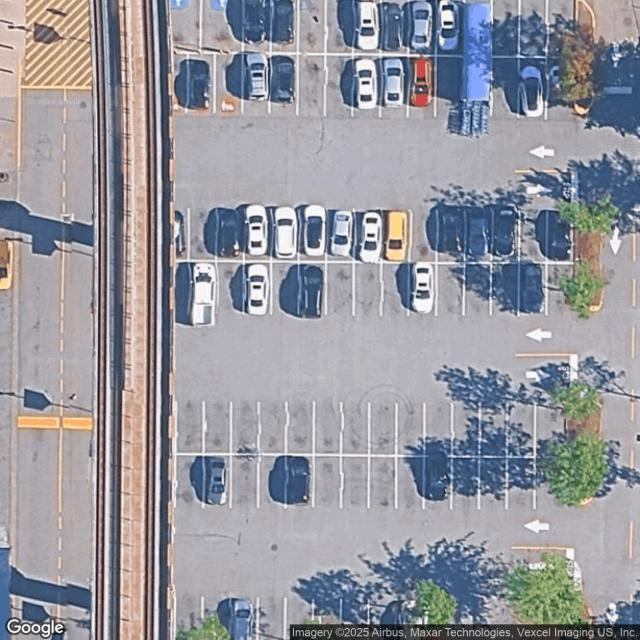car: (190, 261, 218, 331), (517, 64, 545, 119), (546, 209, 574, 262), (300, 264, 326, 320), (423, 450, 451, 501), (185, 57, 211, 111), (214, 209, 242, 259), (244, 51, 270, 104), (353, 56, 378, 110), (410, 262, 435, 316), (274, 203, 297, 261), (520, 262, 544, 316), (246, 263, 270, 316), (401, 596, 429, 640), (287, 454, 311, 504), (242, 0, 268, 46), (207, 454, 230, 506), (359, 213, 382, 264), (230, 595, 256, 640), (274, 54, 296, 107), (245, 204, 267, 257), (303, 203, 325, 256), (355, 0, 378, 50), (437, 1, 460, 49), (441, 209, 464, 257), (385, 210, 407, 260), (494, 207, 516, 257), (383, 57, 404, 107), (412, 56, 432, 108), (273, 0, 295, 45), (411, 3, 432, 50), (468, 213, 489, 258), (334, 209, 352, 261), (384, 4, 404, 50), (552, 62, 571, 103), (172, 211, 187, 257)
lot_boundary: (167, 0, 576, 639)
objects: (462, 0, 492, 138)
stall: (200, 0, 242, 53), (380, 56, 408, 119), (168, 0, 201, 53), (519, 57, 547, 119), (436, 56, 463, 119), (270, 53, 297, 116), (215, 54, 242, 117), (549, 57, 576, 120), (493, 57, 520, 120), (298, 54, 325, 116), (325, 55, 352, 117), (354, 55, 381, 117), (408, 56, 435, 118), (243, 55, 270, 117), (187, 55, 214, 117), (395, 598, 432, 640), (520, 0, 547, 56), (548, 0, 575, 56), (270, 0, 298, 54), (326, 0, 354, 54), (298, 0, 326, 53), (408, 0, 436, 53), (493, 0, 519, 57), (351, 52, 378, 106), (437, 0, 463, 56), (381, 0, 408, 53), (244, 0, 271, 53), (353, 0, 380, 53), (519, 212, 547, 263), (354, 262, 382, 313), (326, 263, 354, 314), (175, 455, 203, 506), (258, 455, 286, 506), (203, 455, 231, 506), (341, 403, 369, 454), (313, 403, 341, 454), (424, 457, 452, 508), (425, 404, 453, 455), (397, 457, 425, 508), (396, 404, 424, 455), (479, 405, 507, 456), (452, 405, 480, 456), (437, 212, 465, 262), (465, 212, 493, 262), (491, 211, 519, 261), (216, 210, 244, 260), (271, 211, 299, 261), (299, 210, 327, 260), (271, 262, 299, 312), (463, 264, 491, 314), (436, 264, 464, 314), (409, 264, 437, 314), (176, 403, 204, 453), (313, 456, 341, 506), (285, 456, 313, 506), (508, 406, 536, 456), (507, 459, 535, 509), (479, 458, 507, 508), (537, 459, 565, 509), (189, 210, 216, 261), (327, 211, 354, 262), (354, 210, 381, 261), (216, 262, 243, 313), (189, 261, 216, 312), (519, 264, 546, 315), (204, 402, 231, 453), (547, 264, 574, 315), (258, 402, 285, 453), (341, 456, 368, 507), (369, 456, 396, 507), (452, 457, 479, 508), (382, 212, 409, 262), (410, 212, 437, 262), (547, 213, 574, 263), (244, 210, 271, 260), (381, 264, 408, 314), (299, 263, 326, 313), (244, 263, 271, 313), (492, 264, 519, 314), (231, 402, 258, 452), (232, 456, 259, 506), (286, 403, 313, 453), (369, 404, 396, 454), (536, 407, 563, 457), (169, 55, 188, 119), (516, 598, 544, 640), (176, 598, 204, 640), (342, 598, 370, 640), (258, 598, 285, 640), (434, 598, 461, 640), (461, 598, 488, 640), (489, 598, 516, 640), (544, 598, 571, 640), (231, 598, 258, 640), (203, 598, 230, 640), (370, 598, 397, 640), (314, 598, 341, 640), (288, 598, 314, 640), (171, 210, 189, 261), (171, 262, 190, 310)
